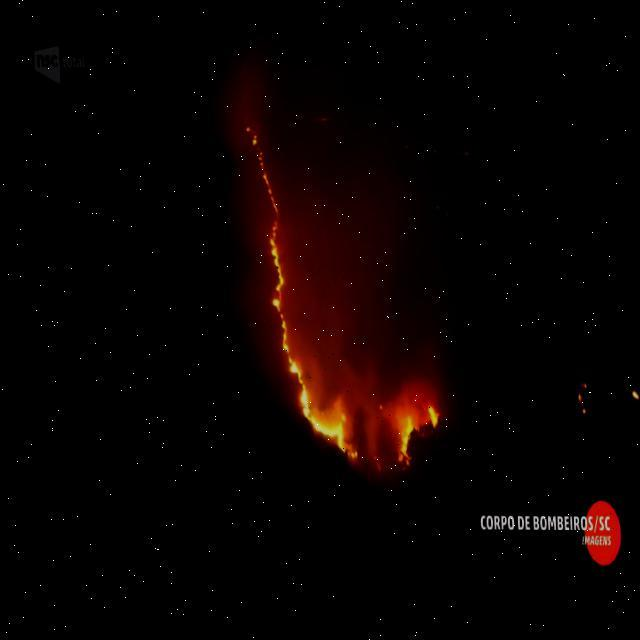Fire: (248, 127, 356, 460), (385, 411, 411, 458), (424, 400, 437, 430), (630, 390, 639, 429)
